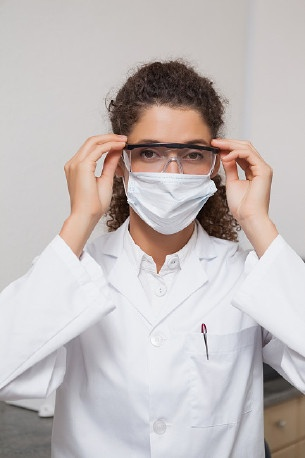Mask: (119, 130, 222, 233)
